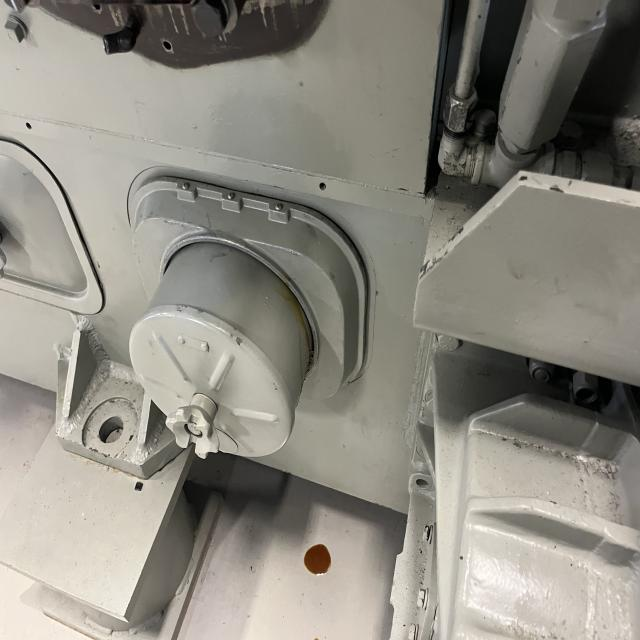Oil Leak: (272, 276, 318, 355), (300, 542, 334, 578), (301, 353, 311, 377)
